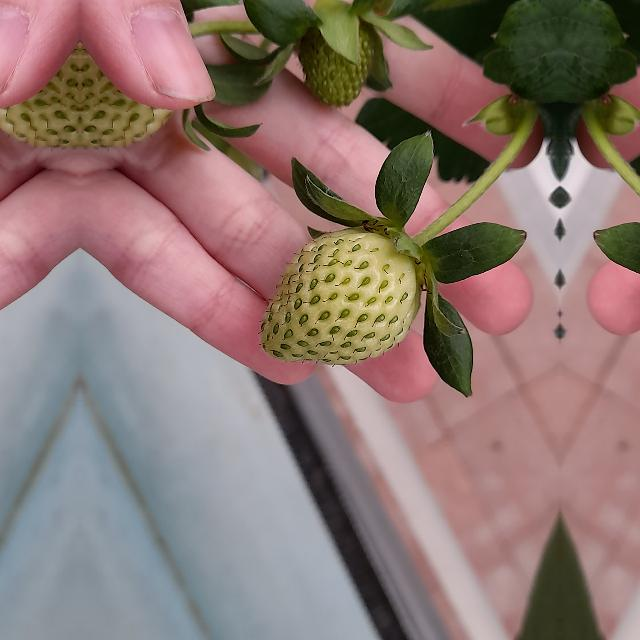Health_25: (259, 227, 421, 365)
